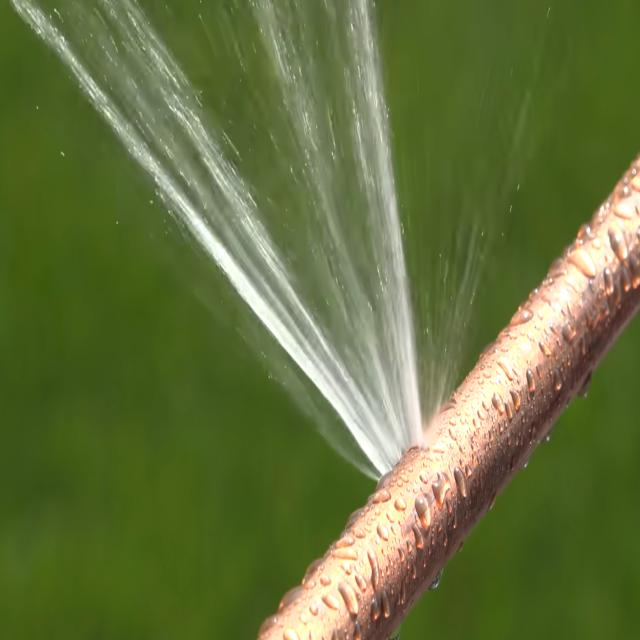leak: (1, 0, 434, 485)
